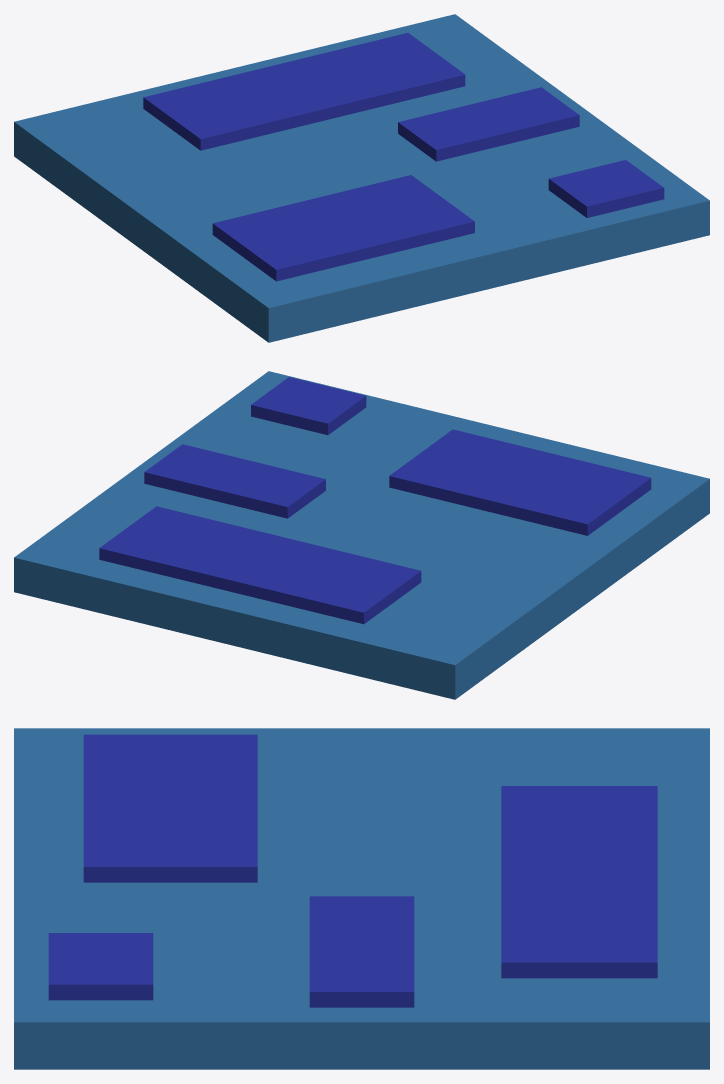
Rendered from moon_tiles-0.obj.
3 renders of one model, top to bottom at view 1: azimuth 30°, elevation 25°; view 2: azimuth 150°, elevation 25°; view 3: azimuth 270°, elevation 25°, orthographic. The views are drawn at different scales.
Bounding box in the file's own units: 4 × 0.4 × 4.
Materials: 1 (1 with a texture image).
